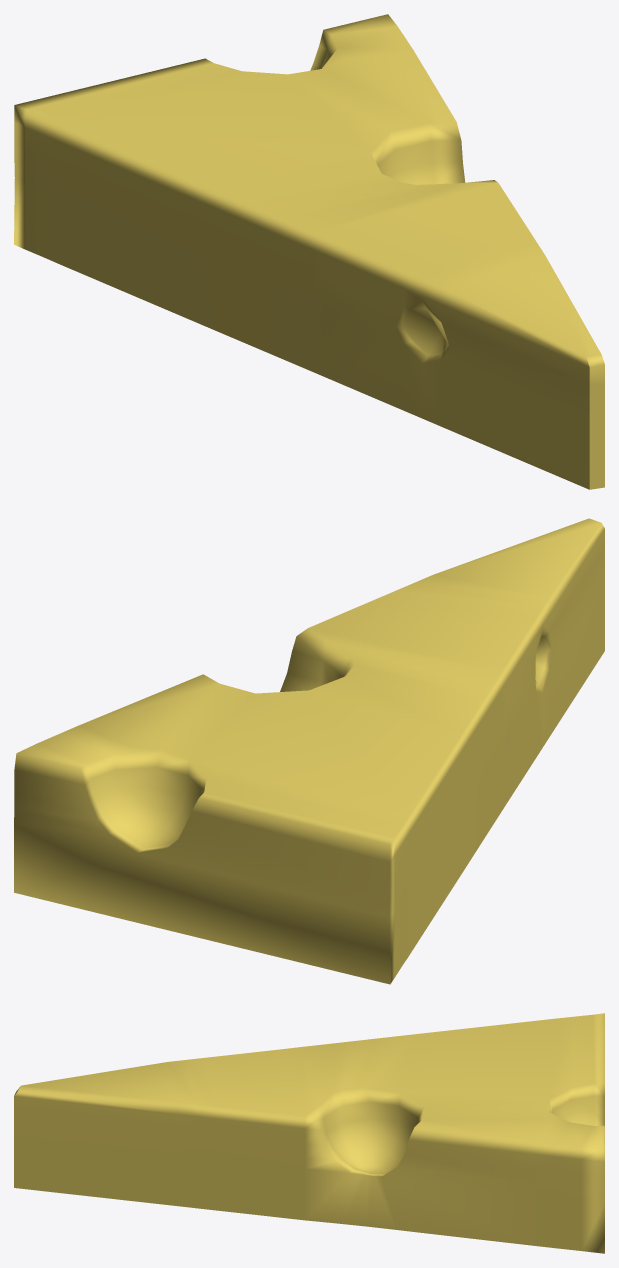
File: AstolfoHentai.fbx
3 renders of one model, top to bottom at view 1: azimuth 30°, elevation 25°; view 2: azimuth 150°, elevation 25°; view 3: azimuth 270°, elevation 25°, orthographic. The views are drawn at different scales.
Parts seen in each view (by area): view 1: Cheese; view 2: Cheese; view 3: Cheese.
Boxes of the visible parts, box(x1,y1,x2,y2) form: Cheese: box(14, 14, 604, 489); Cheese: box(14, 518, 604, 984); Cheese: box(14, 1013, 604, 1253).
Bounding box in the file's own units: 12.41 × 4.41 × 22.67.
